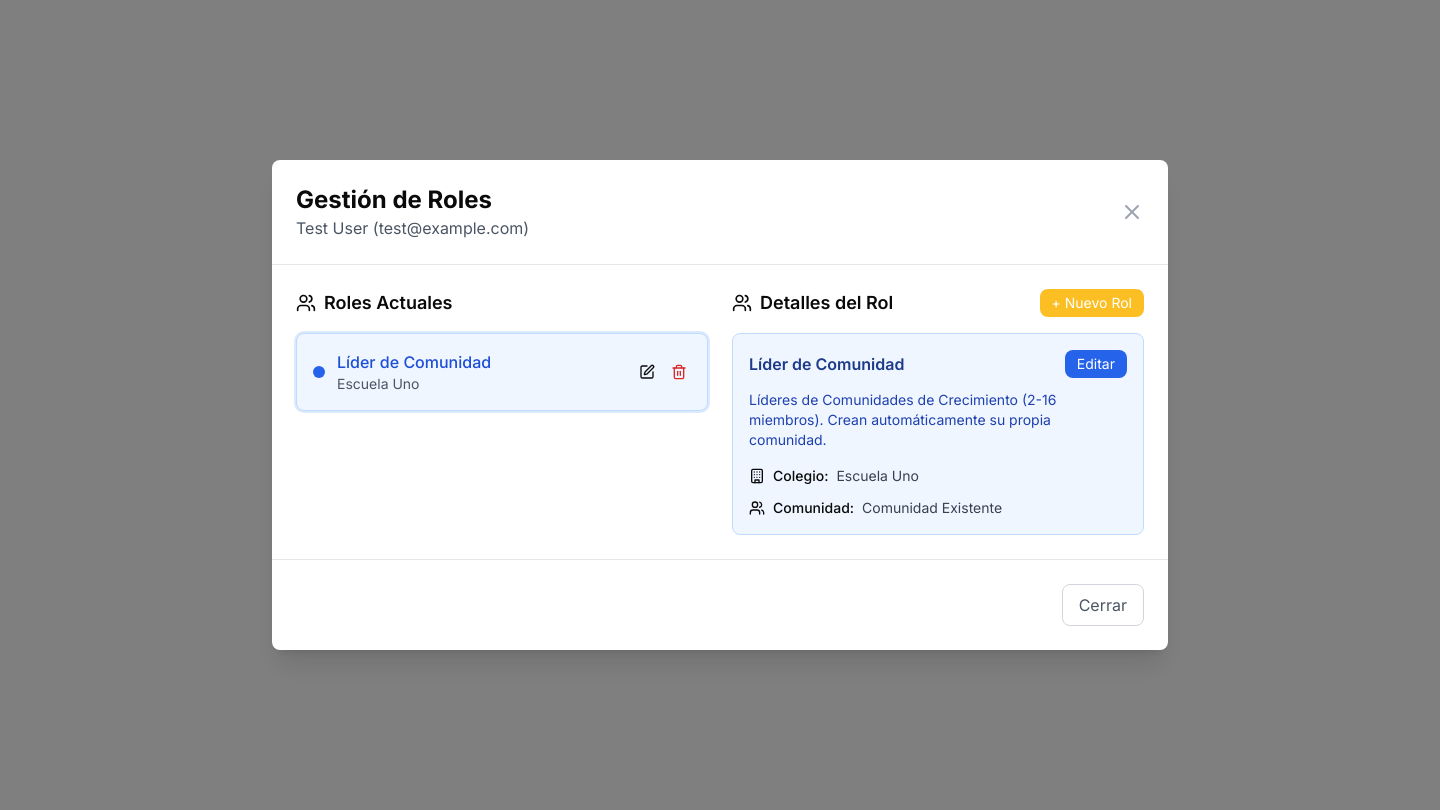
Test case: RoleAssignmentModal — lider_comunidad mode › (e) editing a lider_comunidad role with community_id prefills the dropdown and defaults to "existing"
Click the button "Editar" at (1096, 364), box [1065,350,1127,378]
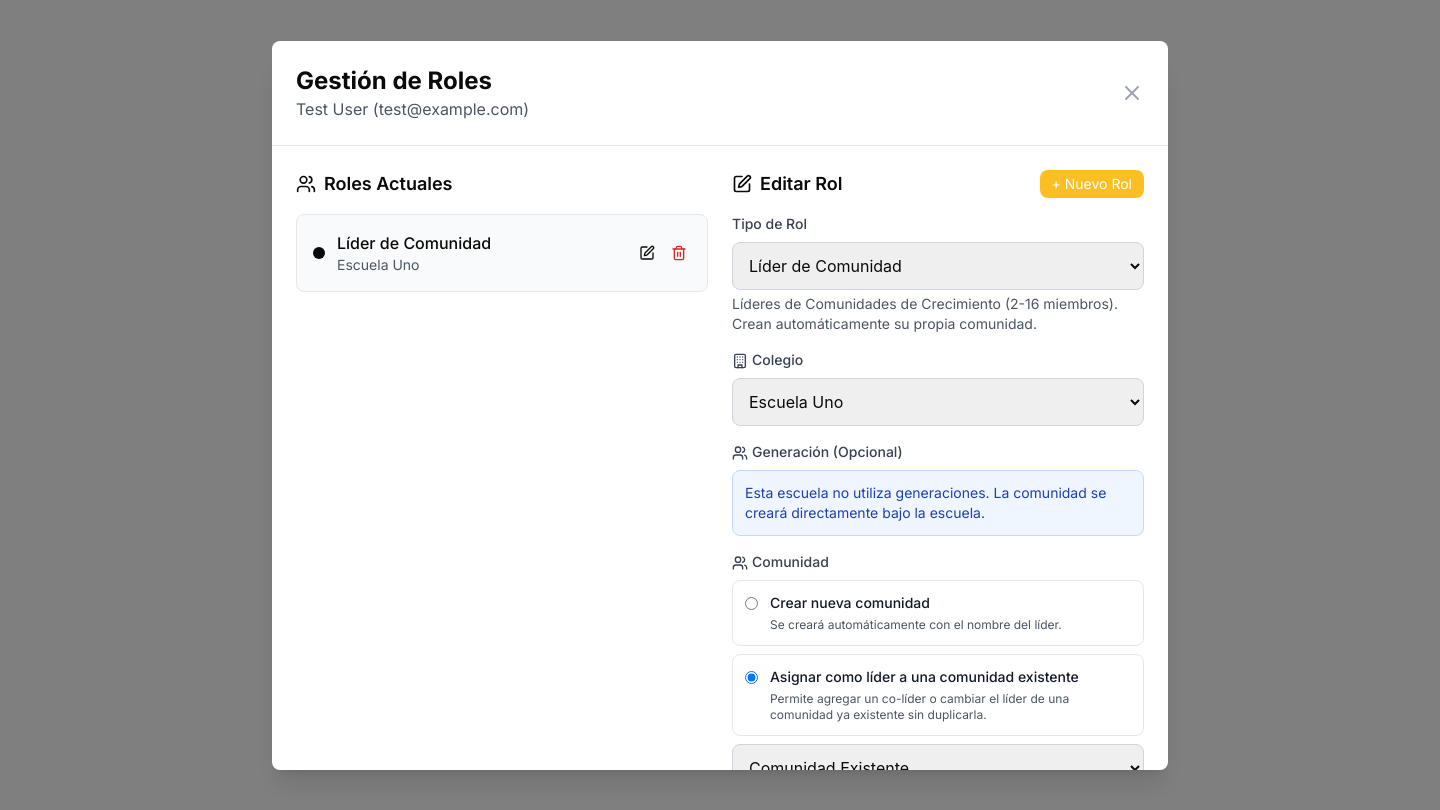
Check: the dropdown below "Tipo de Rol" shows "Líder de Comunidad", box [732,242,1144,290]
